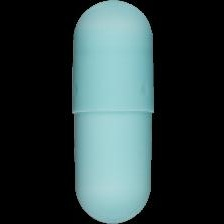54868-4249: (0, 0, 224, 224)
